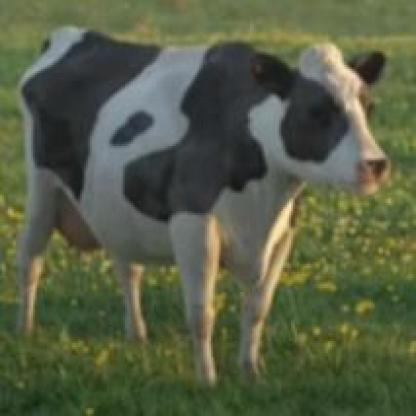cow: (14, 24, 392, 390)
